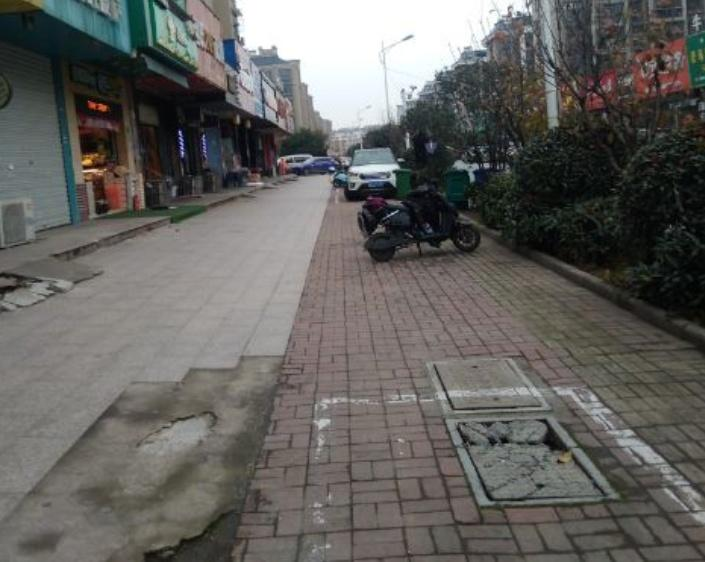wellcover: (431, 406, 629, 522), (399, 341, 556, 418)
